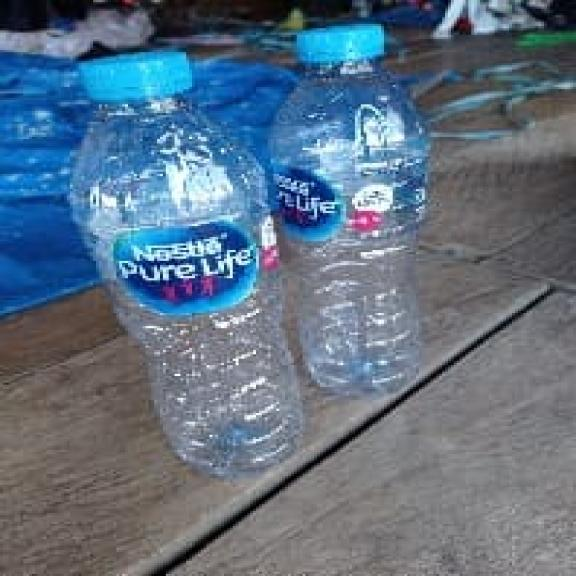Plastik: (74, 53, 303, 478), (273, 25, 429, 394)
